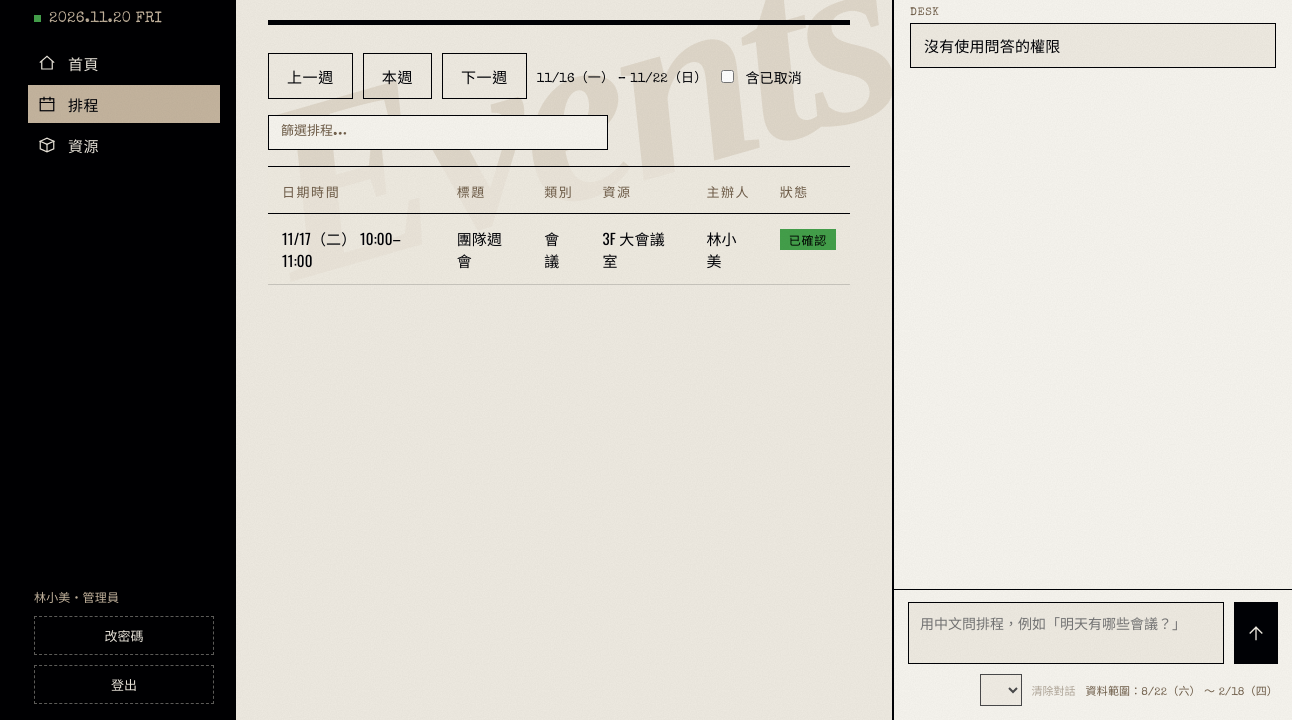
it: testWeekRangeRequestedAndNavigable
Expected: the text "團隊週會" is shown, [443,214,530,285]
Click the button "下一週".
click(484, 76)  # box [442,53,527,99]
(page scrolled)
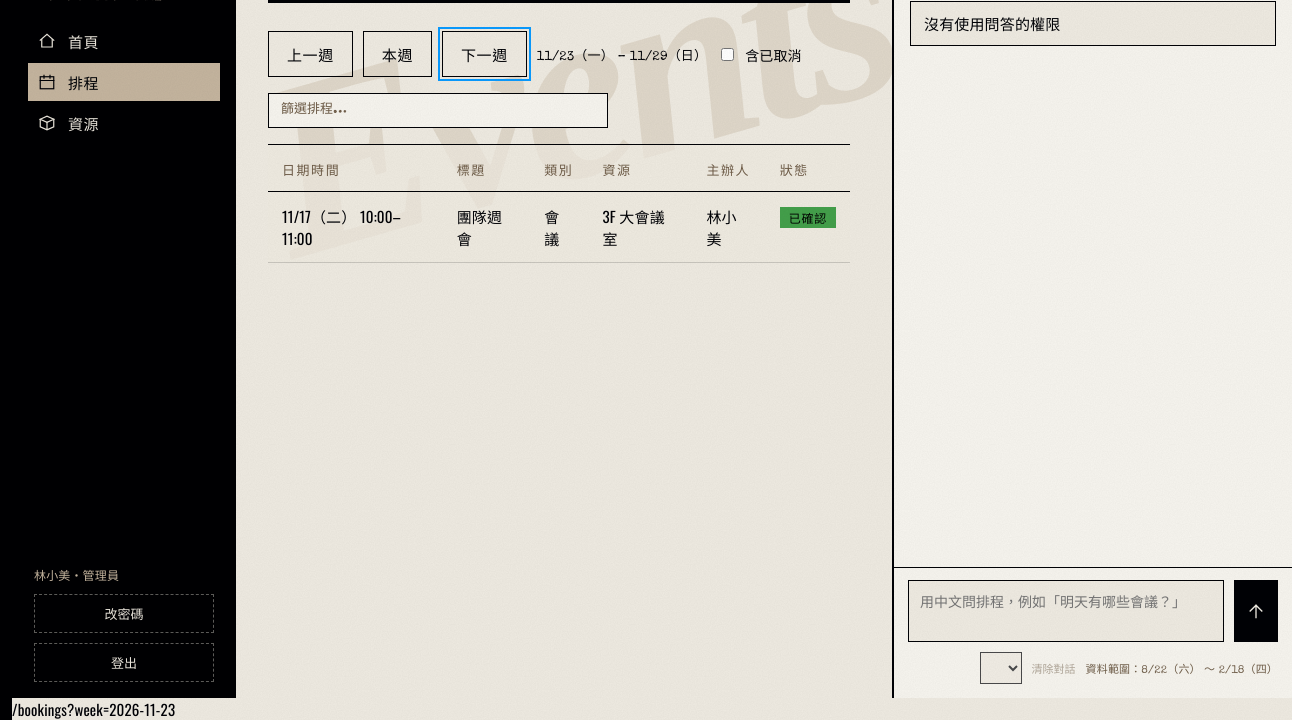
Result: the text with test id "location" shows "week=2026-11-23" at [67,698,175,719]
